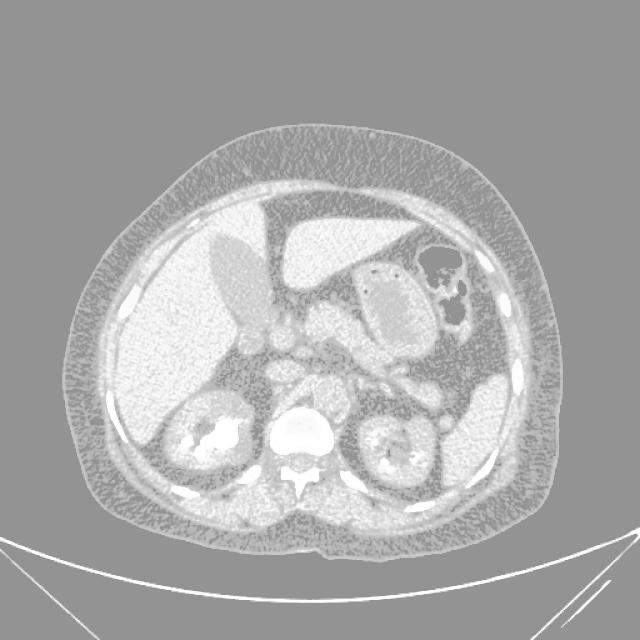STONE: (156, 252, 454, 506)
